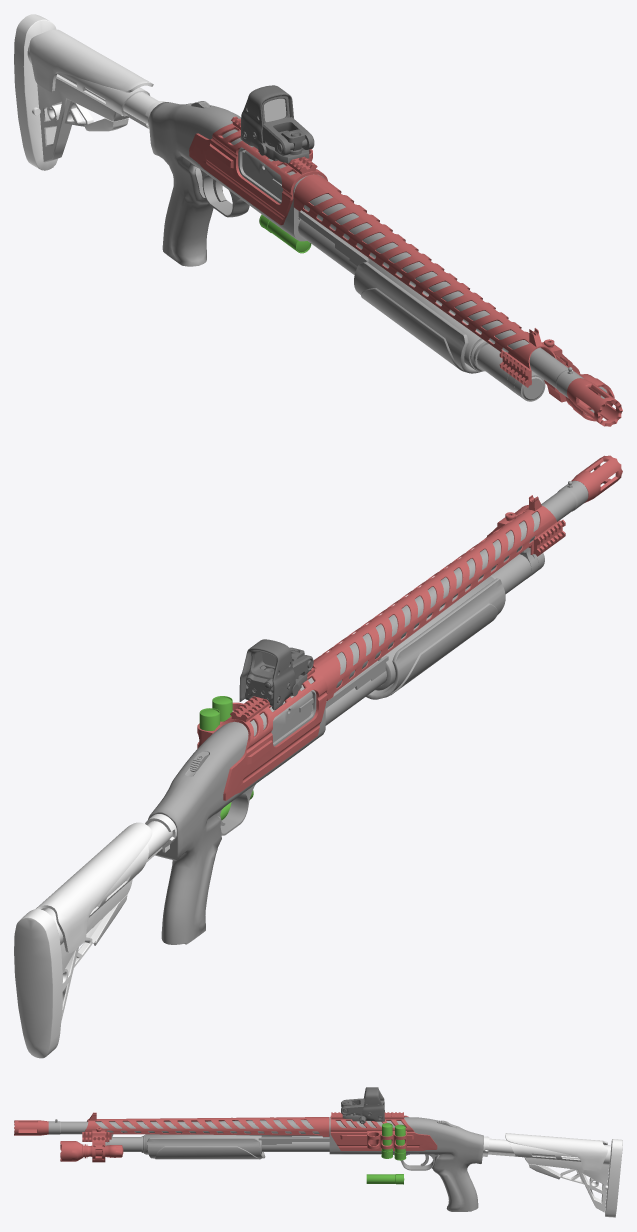
File: W_TacticalShotgun01.fbx
The picture shows the model from 3 angles, top to bottom: view 1: azimuth 30°, elevation 25°; view 2: azimuth 150°, elevation 25°; view 3: azimuth 270°, elevation 25°; orthographic projection. The views are drawn at different scales.
Visible parts, largest first — view 1: ShotgunBaseBody, ShotgunButt, AttachmentStock01, ShotgunPump, AttachmentSightAndBulletHolder01, AttachmentHolographicSights01, AttachmentCompensator01, AttachmentFlashlight01, Bullet03; view 2: ShotgunBaseBody, ShotgunButt, AttachmentStock01, ShotgunPump, AttachmentSightAndBulletHolder01, AttachmentHolographicSights01, AttachmentCompensator01; view 3: ShotgunBaseBody, ShotgunButt, AttachmentStock01, ShotgunPump, AttachmentSightAndBulletHolder01, AttachmentFlashlight01, AttachmentHolographicSights01, AttachmentCompensator01, Bullet03, Bullet01, Bullet02, AttachmentBulletHolder02.
Part boxes in pixels (x1=…): ShotgunBaseBody: x1=149, y1=101, x2=583, y2=401; ShotgunButt: x1=14, y1=14, x2=165, y2=170; AttachmentStock01: x1=293, y1=174, x2=565, y2=387; ShotgunPump: x1=298, y1=210, x2=482, y2=373; AttachmentSightAndBulletHolder01: x1=189, y1=116, x2=327, y2=225; AttachmentHolographicSights01: x1=240, y1=85, x2=314, y2=163; AttachmentCompensator01: x1=567, y1=378, x2=622, y2=426; AttachmentFlashlight01: x1=542, y1=339, x2=614, y2=421; Bullet03: x1=259, y1=214, x2=311, y2=253; ShotgunBaseBody: x1=148, y1=480, x2=588, y2=944; ShotgunButt: x1=14, y1=814, x2=176, y2=1058; AttachmentStock01: x1=313, y1=495, x2=565, y2=700; ShotgunPump: x1=309, y1=576, x2=505, y2=716; AttachmentSightAndBulletHolder01: x1=213, y1=664, x2=327, y2=800; AttachmentHolographicSights01: x1=239, y1=639, x2=313, y2=710; AttachmentCompensator01: x1=571, y1=455, x2=622, y2=502; ShotgunBaseBody: x1=48, y1=1117, x2=483, y2=1211; ShotgunButt: x1=482, y1=1133, x2=622, y2=1217; AttachmentStock01: x1=82, y1=1112, x2=329, y2=1141; ShotgunPump: x1=145, y1=1134, x2=329, y2=1159; AttachmentSightAndBulletHolder01: x1=330, y1=1112, x2=437, y2=1150; AttachmentFlashlight01: x1=60, y1=1127, x2=123, y2=1162; AttachmentHolographicSights01: x1=341, y1=1087, x2=384, y2=1123; AttachmentCompensator01: x1=14, y1=1120, x2=48, y2=1135; Bullet03: x1=366, y1=1174, x2=404, y2=1184; Bullet01: x1=394, y1=1124, x2=406, y2=1160; Bullet02: x1=381, y1=1123, x2=392, y2=1158; AttachmentBulletHolder02: x1=367, y1=1131, x2=380, y2=1149.
Bounding box in the file's own units: 5.85 × 18.66 × 80.7.
